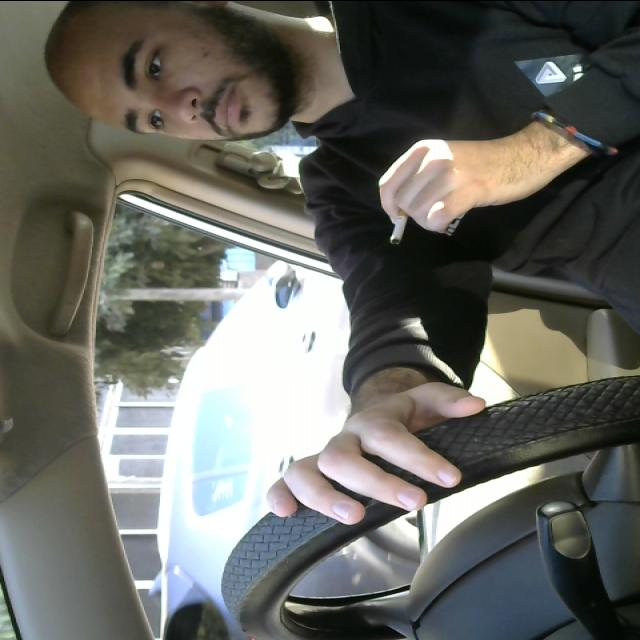smoking: (382, 184, 412, 247)
